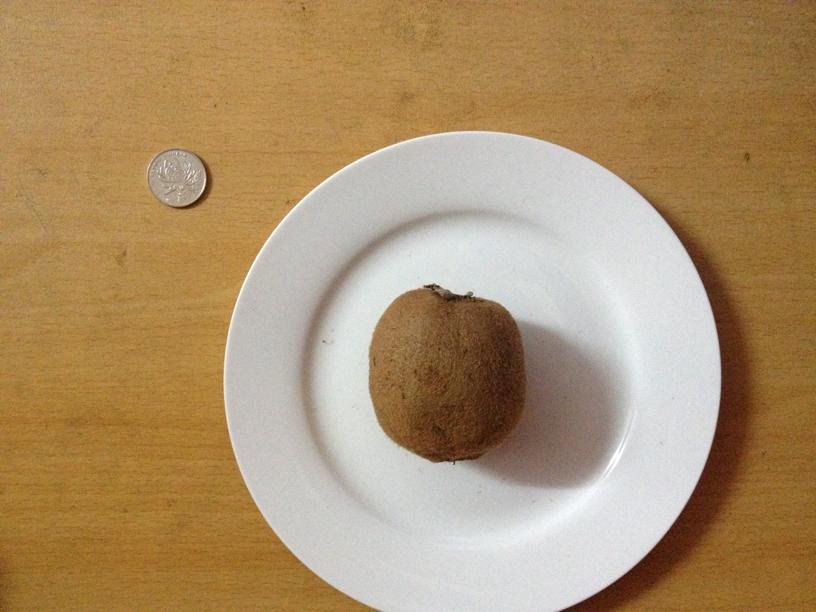coin: (147, 146, 209, 207)
qiwi: (372, 284, 525, 461)
